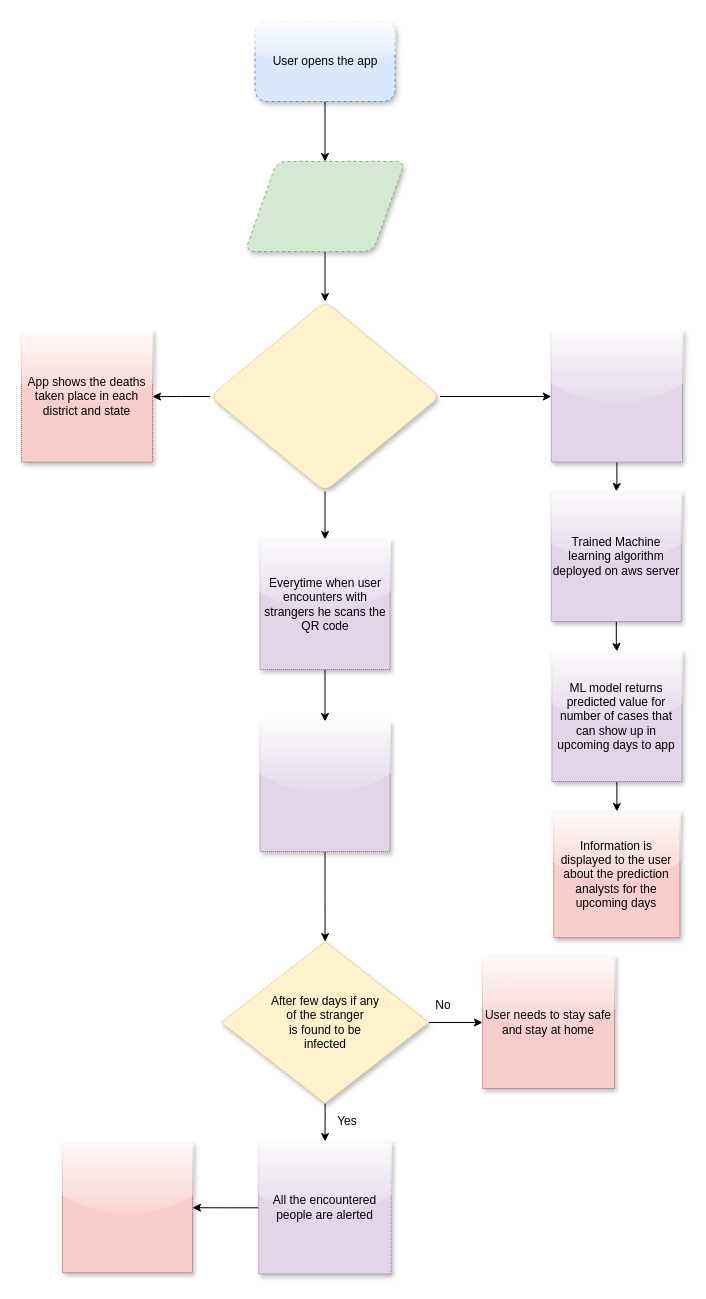
The diagram is 706 pixels wide and 1299 high, and some of its shapes have lost their labels. Each missing label, with the centre of its shape:
"Dashboard opens with options generate, read QR code, Stats analysis of past data" belongs at (x=325, y=397).
"Enters his details in the app" belongs at (x=325, y=207).
"That encounter is recorded in database" belongs at (x=325, y=787).
"User is notified to take a covid test" belongs at (x=128, y=1209).
"user wants to know prediction analysis for upcoming days" belongs at (x=617, y=397).
